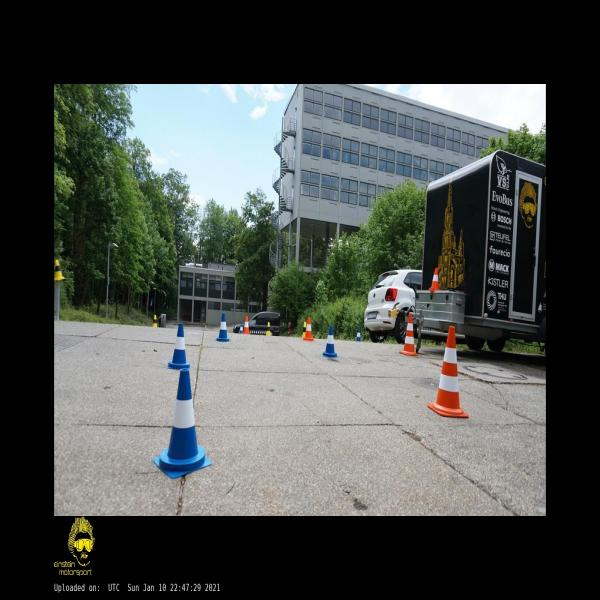blue_cone: (152, 368, 212, 478), (167, 323, 190, 369), (323, 326, 337, 357), (216, 314, 230, 341), (356, 329, 361, 341), (239, 322, 243, 334)
large_orange_cone: (427, 326, 469, 418), (399, 314, 419, 357)
orange_cone: (429, 268, 440, 290), (305, 317, 314, 340), (243, 316, 250, 334)
yellow_cone: (54, 260, 67, 280), (266, 322, 271, 336), (302, 321, 306, 338), (153, 315, 157, 327)
